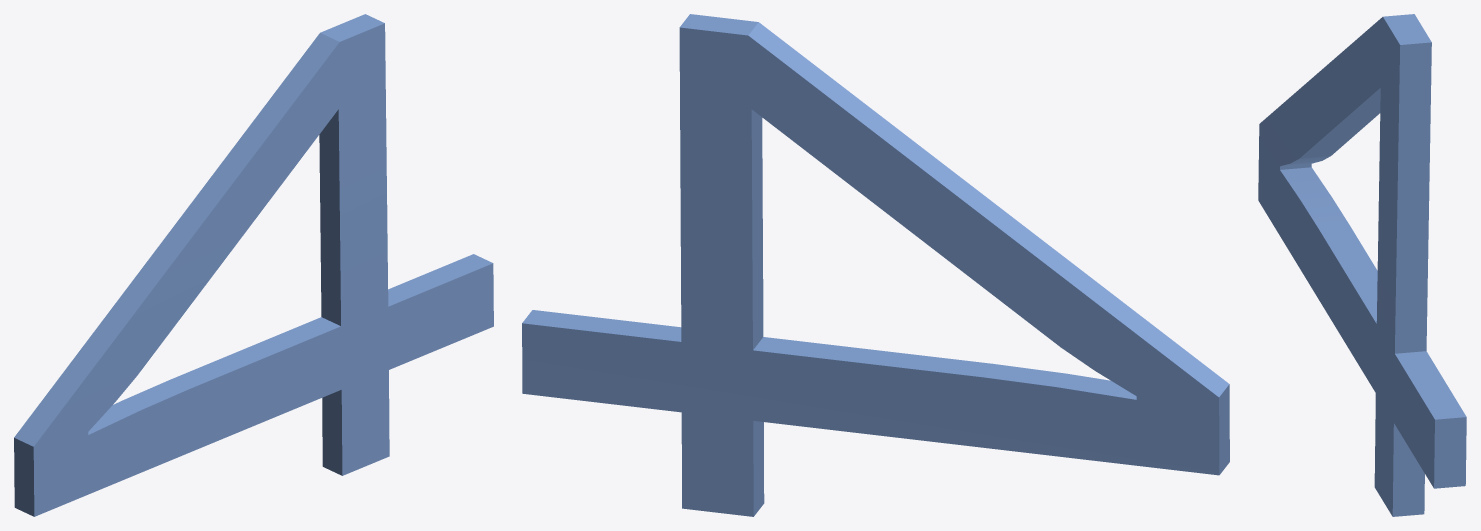
The model's file is New_Number_4.gltf.
3 views of the same model, side by side, from view 1: azimuth 30°, elevation 25°; view 2: azimuth 150°, elevation 25°; view 3: azimuth 270°, elevation 25° (orthographic). The views are drawn at different scales.
Visible parts, largest first — view 1: Part 427; view 2: Part 427; view 3: Part 427.
Part boxes in pixels (x1,y1,x2,y2): Part 427: (14,14,493,516); Part 427: (522,14,1229,516); Part 427: (1258,14,1466,516).
Size of the model in its own units: 0.00541 by 0.00408 by 0.00164.
